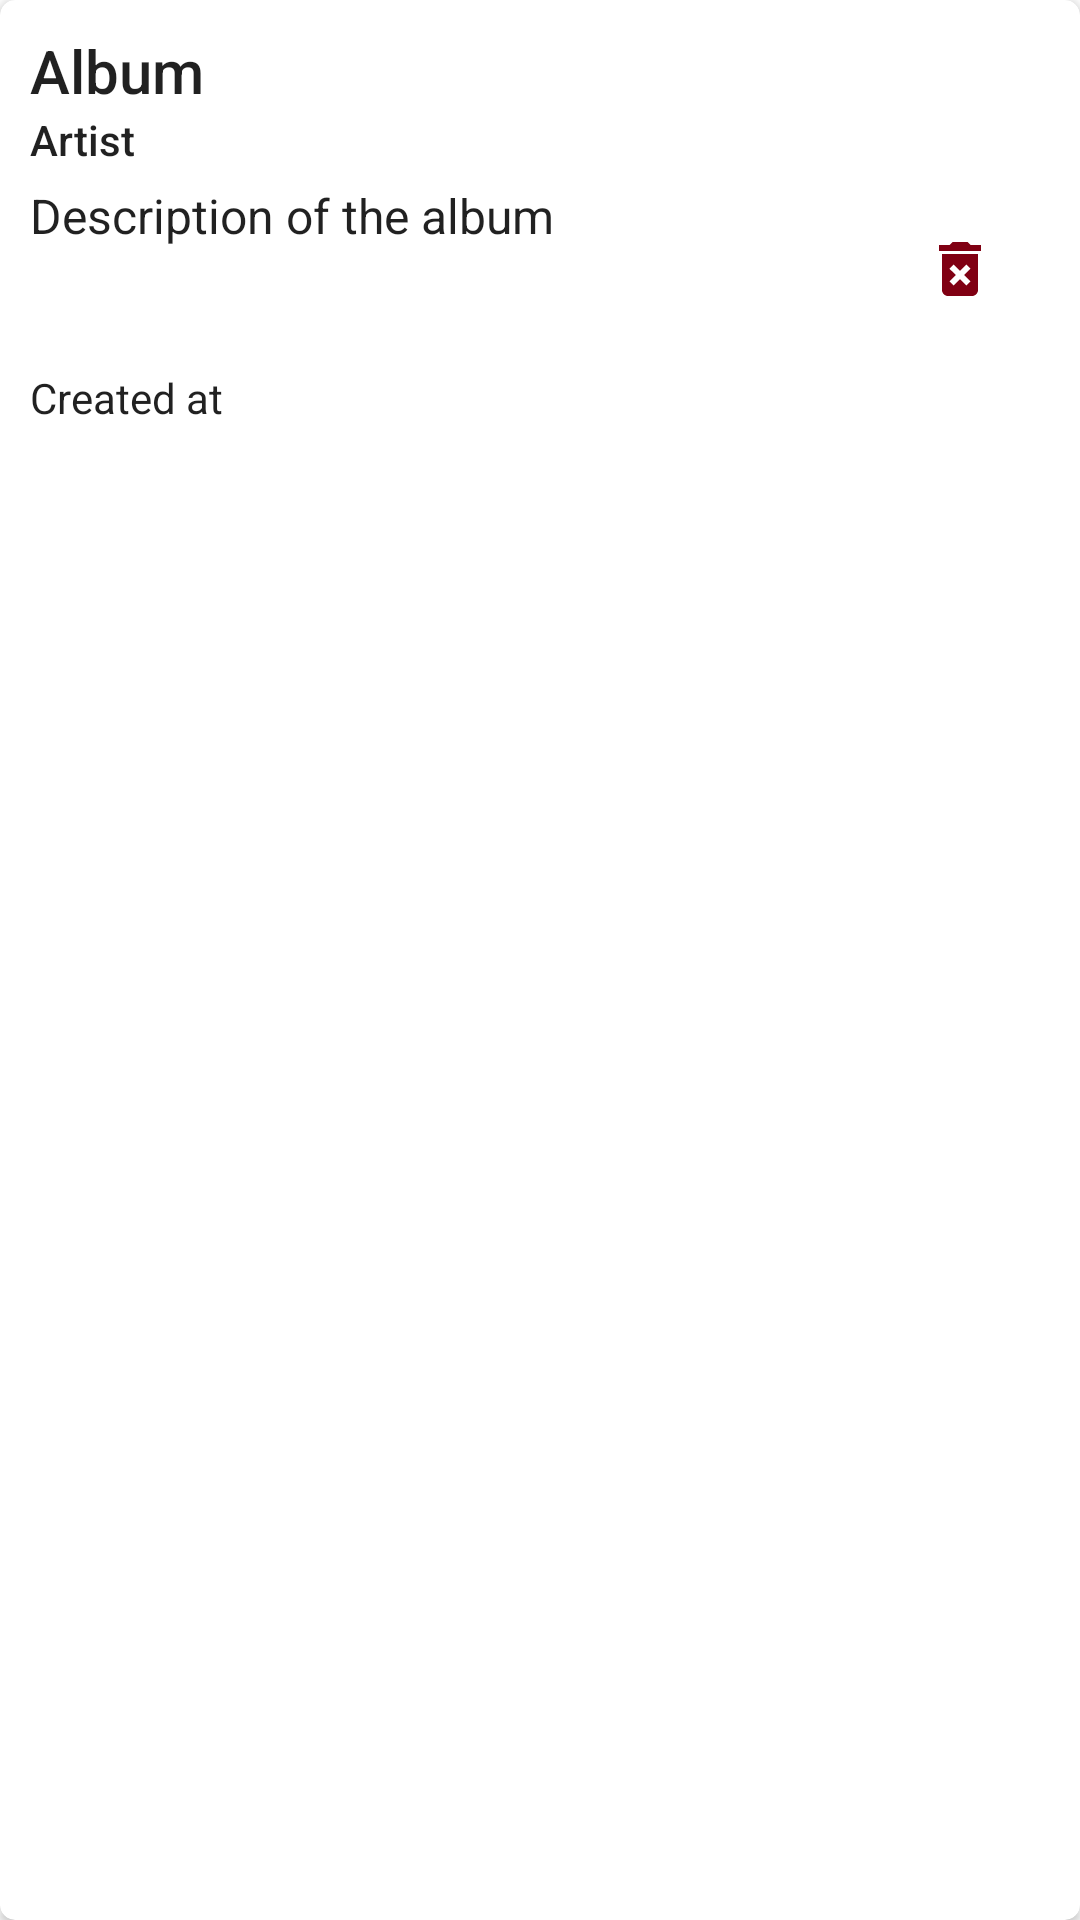

Where to tap for icons on this 1080x1920 app screen, as (x=x, y=y):
Delete: (x=960, y=269)
